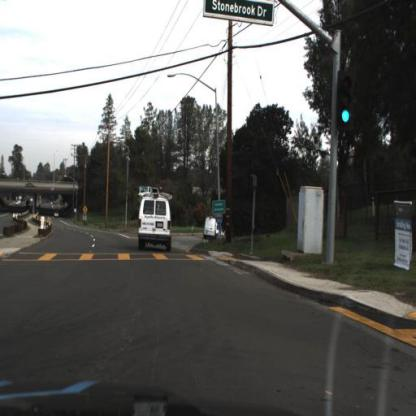car: (135, 192, 175, 249), (205, 216, 226, 242)
